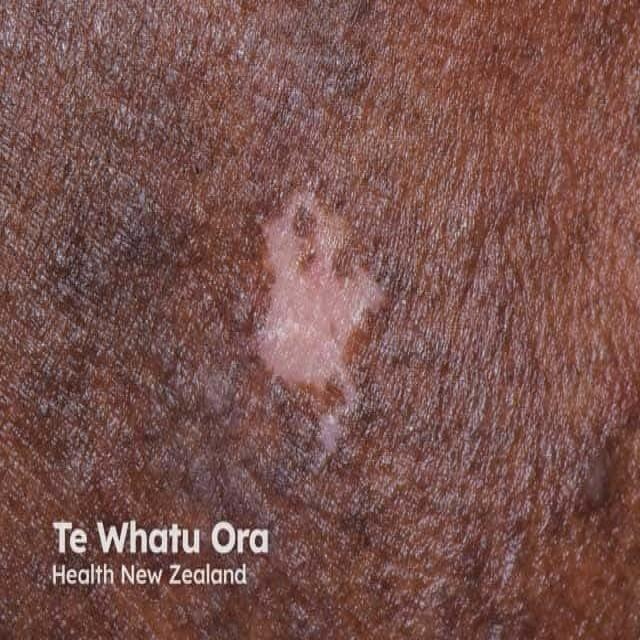lupus-detected: (157, 147, 490, 493)
